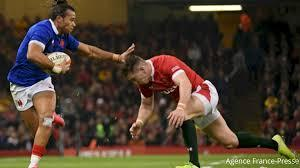ballon_rugby: (45, 52, 71, 77)
